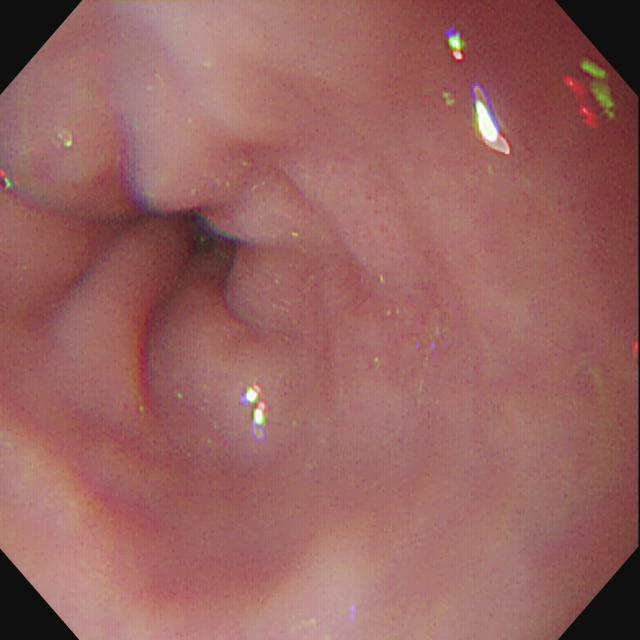U: (564, 57, 616, 132), (474, 86, 512, 156), (242, 383, 269, 442), (448, 30, 468, 65)
